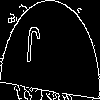J: (25, 25, 41, 75)
